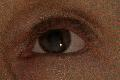eye: (40, 29, 70, 54)
